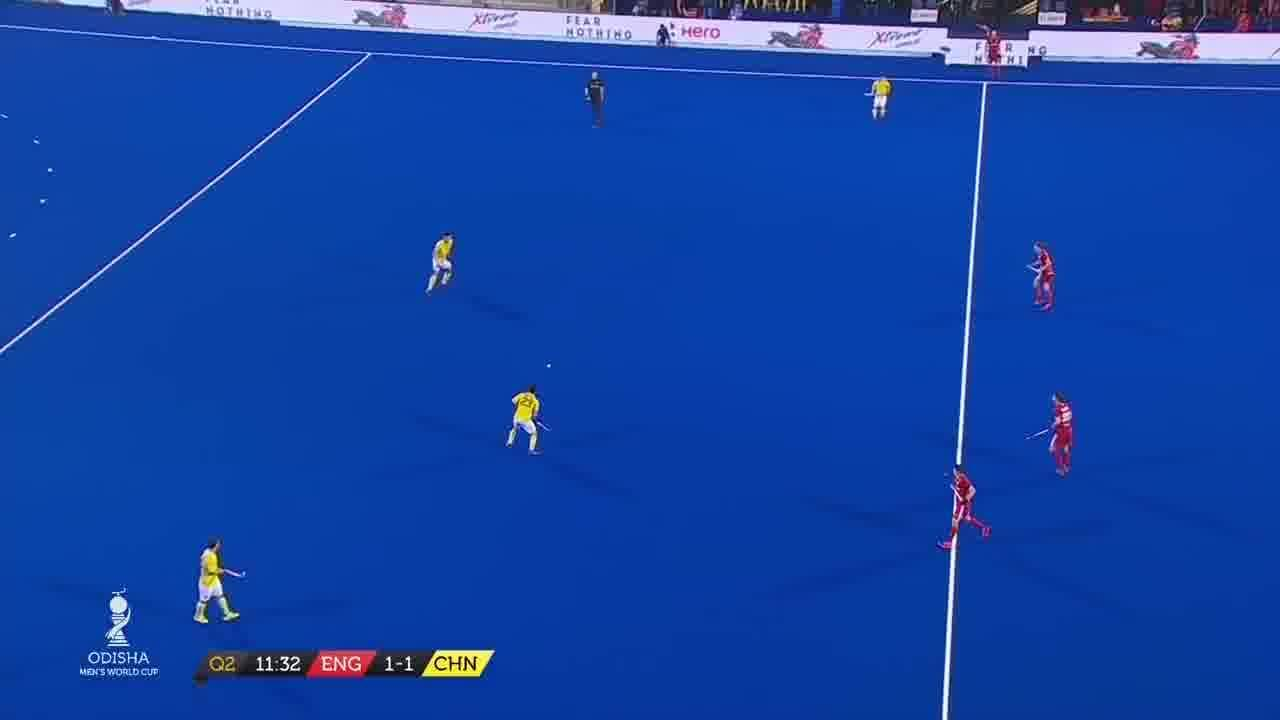ball: (542, 359, 554, 374)
